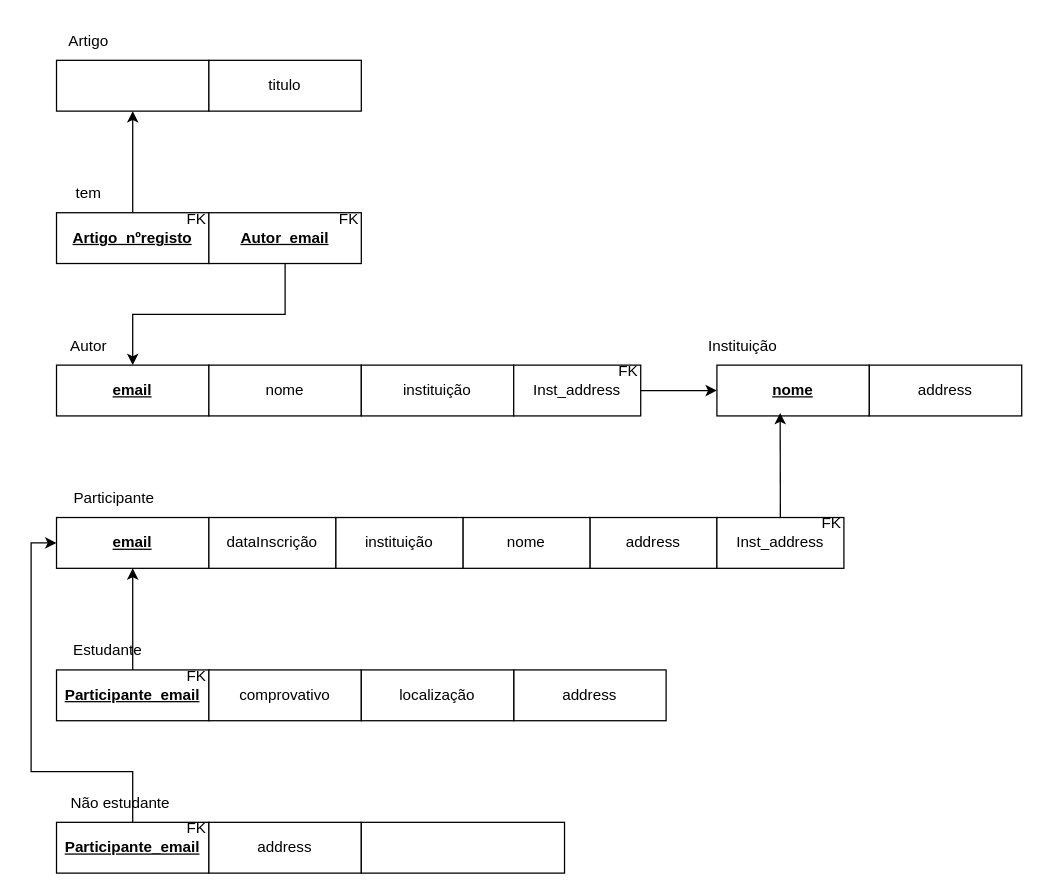
Some shapes in this 1044 by 895 pixel diagram are drawn without their labels. Here are the shapes that lost their labels. From the top down, the box of each, then its label:
(55, 59, 209, 111): nºregisto
(360, 821, 565, 873): ref. transação bancária
